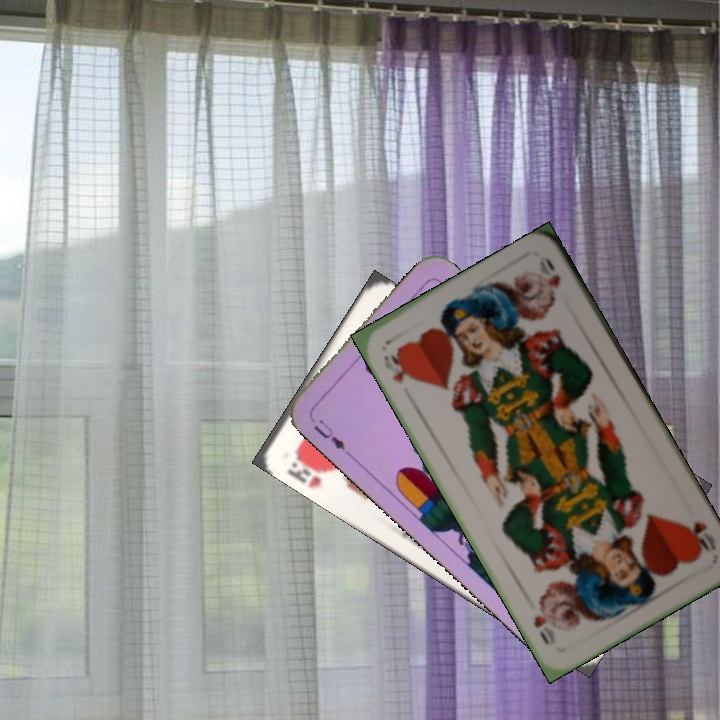EU: (306, 412, 353, 458)
HK: (282, 449, 329, 491)
HO: (682, 518, 719, 556), (379, 349, 415, 386)
